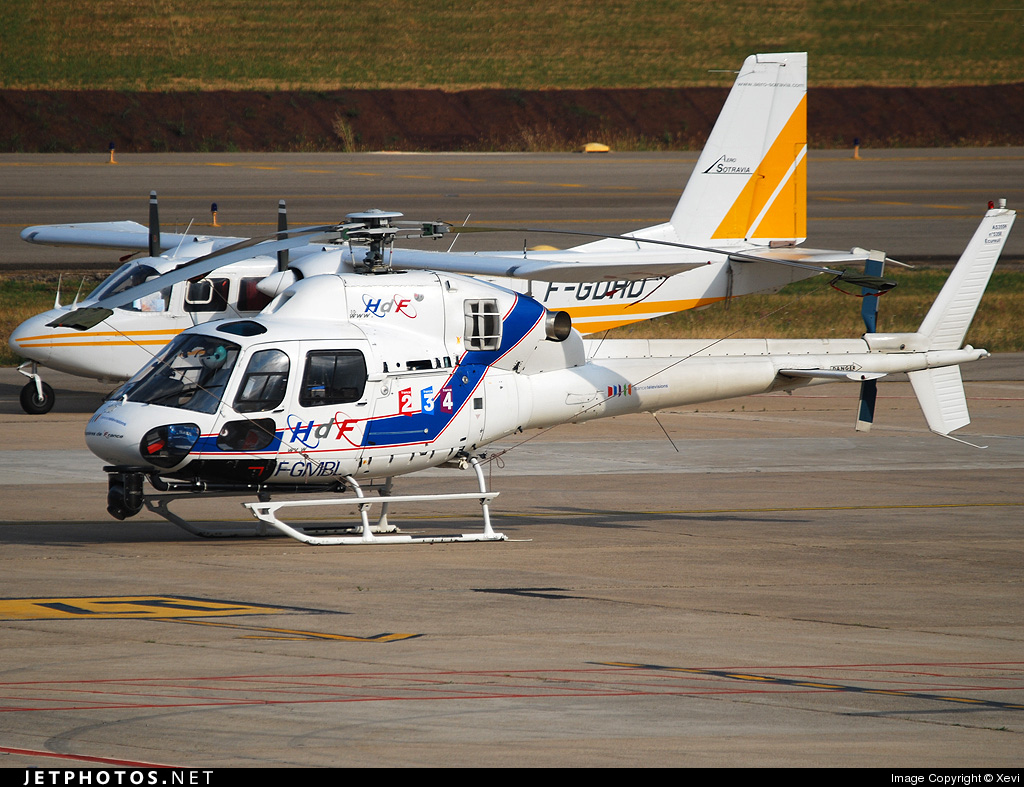number: (271, 460, 351, 483)
